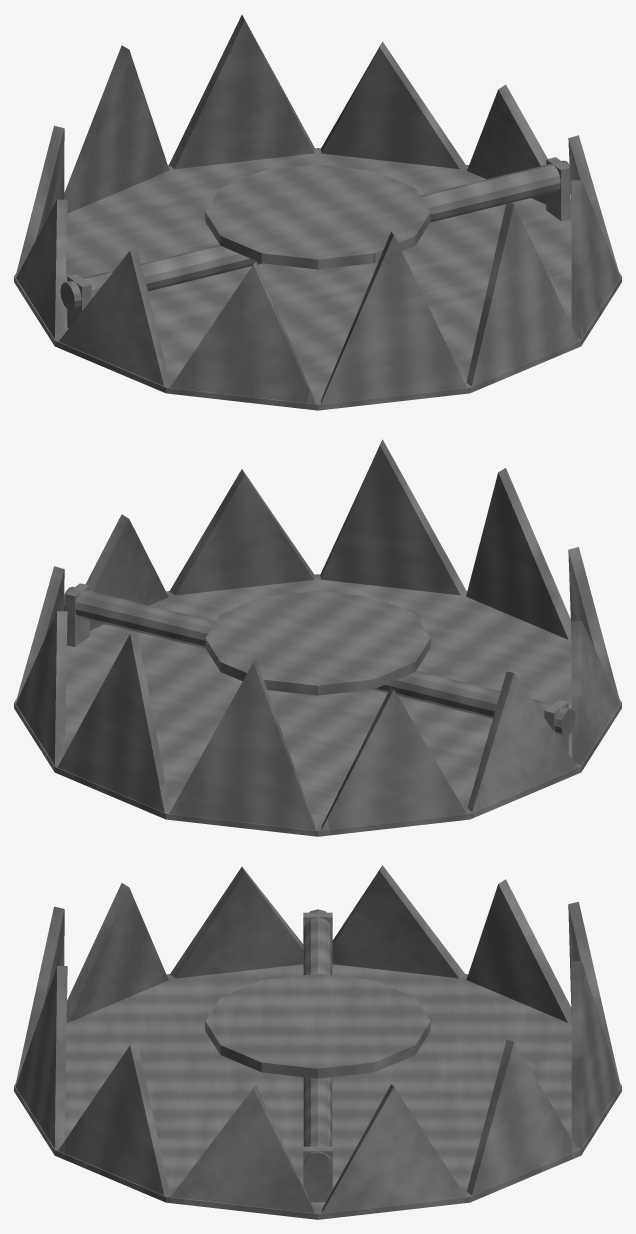
Rendered from trap.fbx.
3 renders of one model, top to bottom at view 1: azimuth 30°, elevation 25°; view 2: azimuth 150°, elevation 25°; view 3: azimuth 270°, elevation 25°, orthographic.
Parts seen in each view (by area): view 1: Bear Trap EXP; view 2: Bear Trap EXP; view 3: Bear Trap EXP.
Boxes of the visible parts, x1,y1,x2,y2 form: Bear Trap EXP: [14, 15, 621, 410]; Bear Trap EXP: [14, 439, 621, 836]; Bear Trap EXP: [14, 865, 621, 1219].
Size of the model in its own units: 36 by 10.41 by 36.
Materials: 1 (1 with a texture image).
